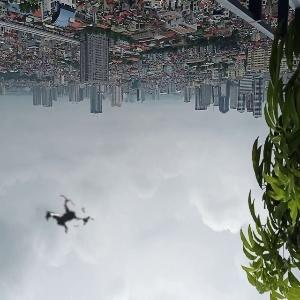drone: (25, 172, 113, 260)
